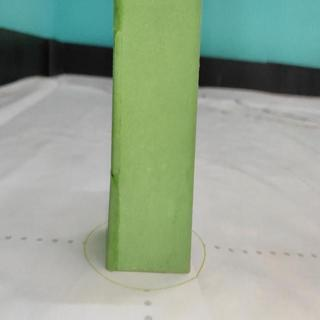greenbox: (105, 0, 206, 273)
